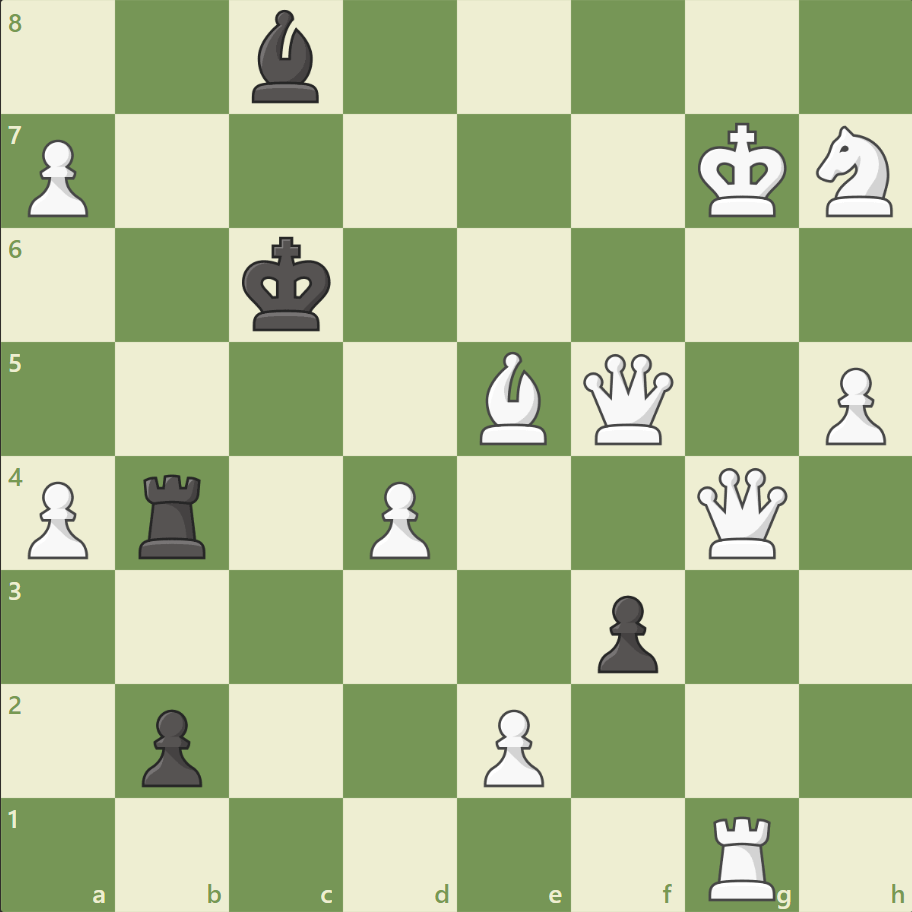B: (471, 347, 555, 449)
K: (692, 117, 792, 225)
N: (806, 121, 903, 223)
P: (20, 132, 95, 223), (20, 473, 95, 564), (474, 700, 549, 791), (815, 359, 889, 450), (361, 473, 435, 564)
Q: (578, 349, 677, 449), (691, 463, 790, 562)
R: (700, 806, 783, 904)
b: (244, 6, 328, 109)
k: (238, 231, 338, 339)
p: (133, 700, 208, 791), (588, 586, 662, 677)
r: (133, 466, 215, 563)
